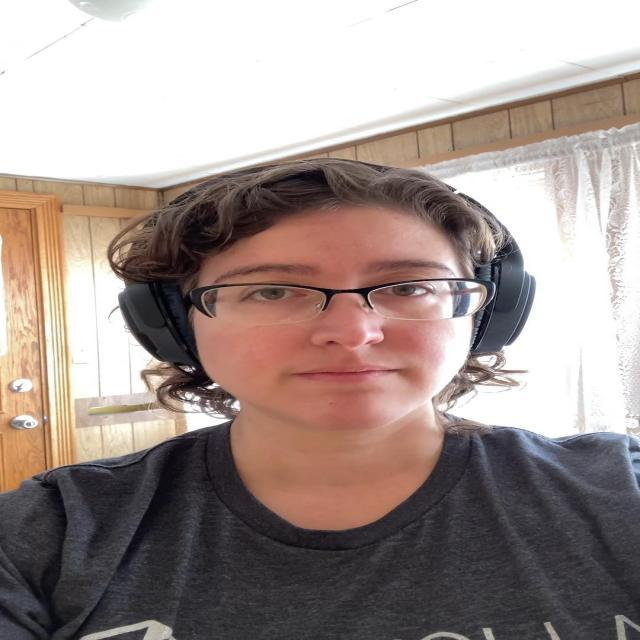no hat: (184, 193, 481, 431)
